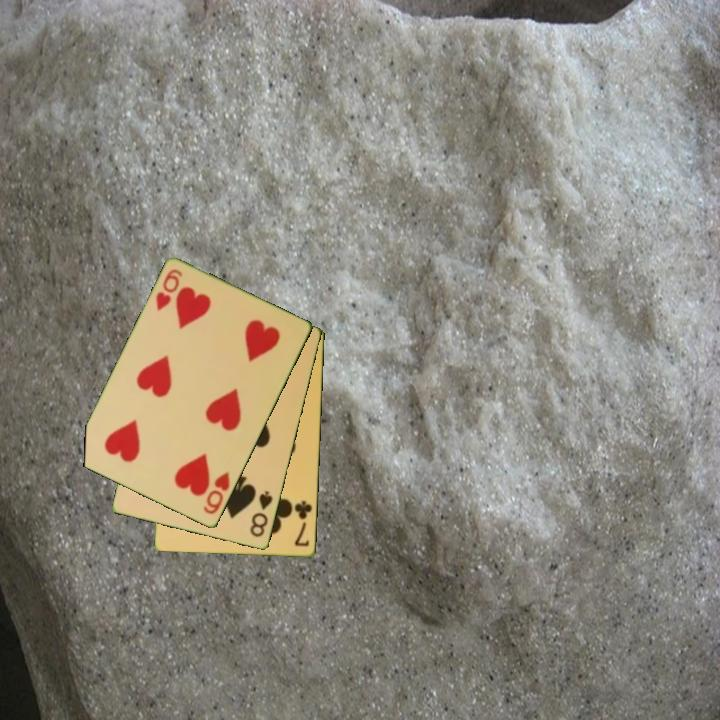6h: (200, 468, 233, 518), (152, 266, 185, 314)
7c: (291, 497, 315, 550)
8s: (247, 487, 276, 540)
